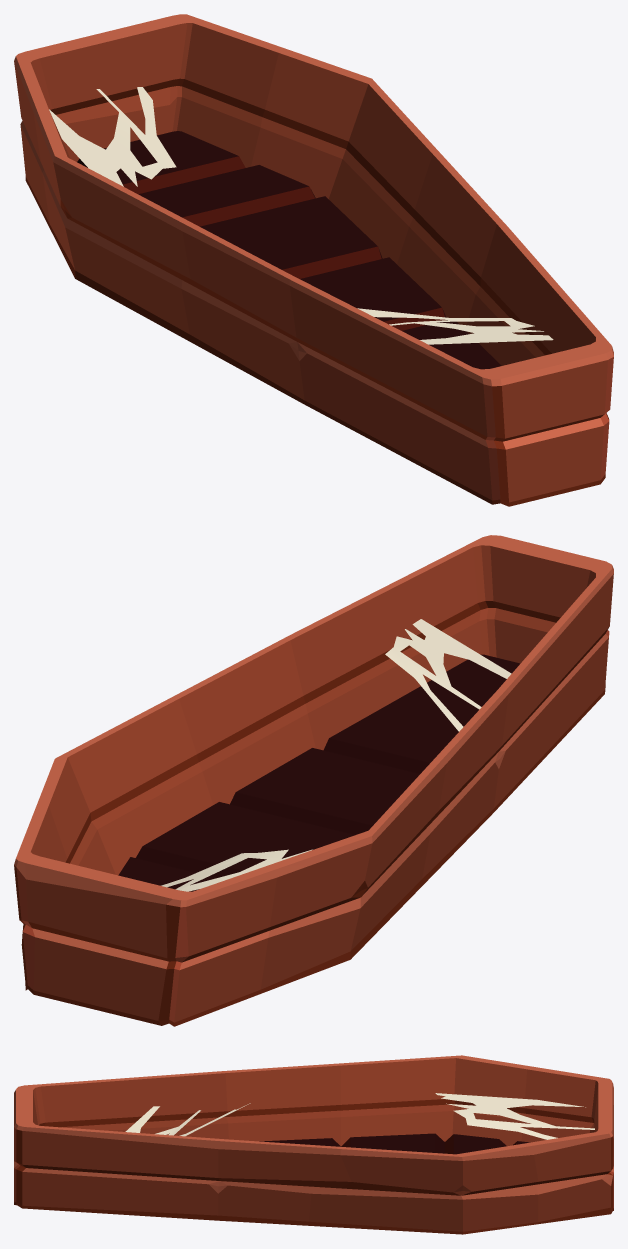
The model's file is HWN20_CoffinBase.glb.
The picture shows the model from 3 angles, top to bottom: view 1: azimuth 30°, elevation 25°; view 2: azimuth 150°, elevation 25°; view 3: azimuth 270°, elevation 25°; orthographic projection. The views are drawn at different scales.
Parts seen in each view (by area): view 1: HWN20_CoffinBase; view 2: HWN20_CoffinBase; view 3: HWN20_CoffinBase.
Boxes of the visible parts, x1=… form: HWN20_CoffinBase: x1=14, y1=14, x2=613, y2=506; HWN20_CoffinBase: x1=14, y1=535, x2=613, y2=1026; HWN20_CoffinBase: x1=14, y1=1055, x2=613, y2=1234.
Size of what is drawn, in the model's own units: 1.19 by 0.466 by 2.95.
1 material, 1 textured.
